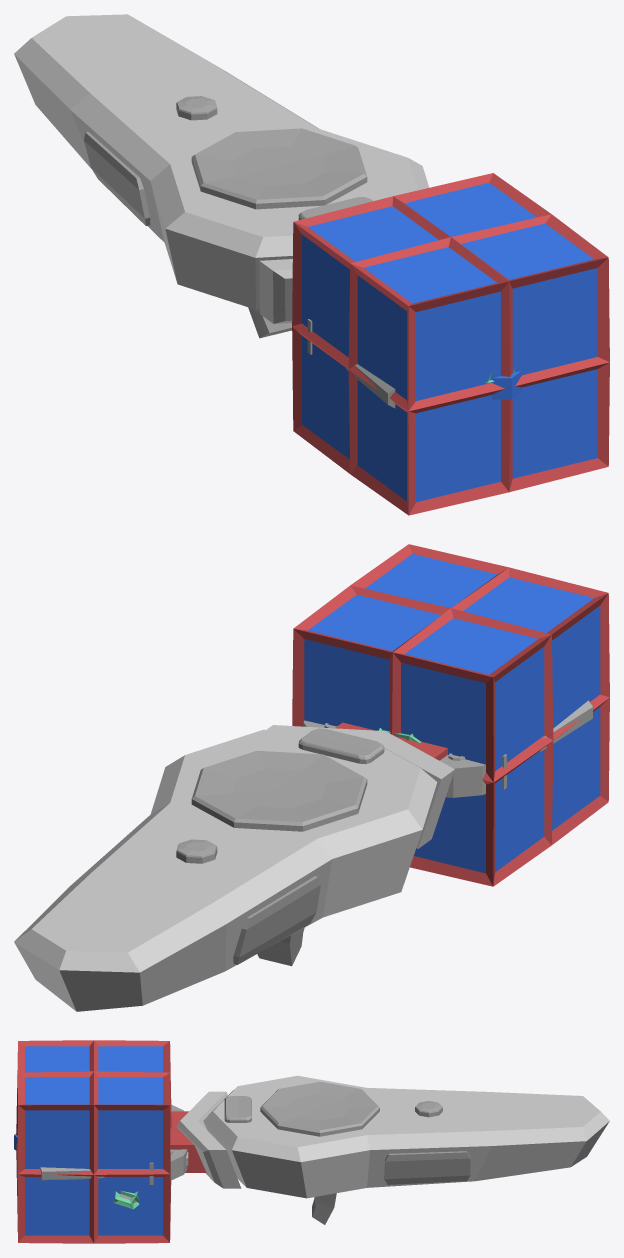
File: Brush_aged.fbx
3 renders of one model, top to bottom at view 1: azimuth 30°, elevation 25°; view 2: azimuth 150°, elevation 25°; view 3: azimuth 270°, elevation 25°, orthographic. The views are drawn at different scales.
Parts seen in each view (by area): view 1: Cube_object, Controller_Object, Negative_cube_object, Big_Button, Controller_gripRight_object, Base_Object, Little_Button; view 2: Controller_Object, Cube_object, Negative_cube_object, Big_Button, Controller_gripRight_object, Base_Object, topButton_Object_Grey, Paintbrush_object, zClick_Object, Little_Button, pliers_open; view 3: Controller_Object, Cube_object, Negative_cube_object, Big_Button, Controller_gropLeft_object, Base_Object, Eraser_object, topButton_Object_Grey, Paintbrush_object, pliers_open, zClick_Object, Little_Button (+1 smaller).
Boxes of the visible parts, x1,y1,x2,y2 form: Cube_object: [302, 182, 597, 502]; Controller_Object: [14, 14, 429, 309]; Negative_cube_object: [292, 173, 609, 515]; Big_Button: [191, 128, 367, 209]; Controller_gripRight_object: [84, 132, 150, 225]; Base_Object: [259, 259, 292, 323]; Little_Button: [176, 96, 217, 120]; Controller_Object: [14, 729, 437, 1011]; Cube_object: [304, 553, 600, 873]; Negative_cube_object: [292, 544, 609, 886]; Big_Button: [191, 750, 367, 831]; Controller_gripRight_object: [233, 876, 320, 964]; Base_Object: [266, 725, 454, 848]; topButton_Object_Grey: [298, 728, 384, 764]; Paintbrush_object: [303, 720, 506, 797]; zClick_Object: [257, 928, 304, 966]; Little_Button: [176, 839, 217, 863]; pliers_open: [539, 700, 592, 751]; Controller_Object: [203, 1075, 609, 1198]; Cube_object: [25, 1046, 162, 1235]; Negative_cube_object: [16, 1040, 171, 1243]; Big_Button: [260, 1081, 379, 1136]; Controller_gropLeft_object: [384, 1151, 470, 1184]; Base_Object: [176, 1091, 241, 1188]; Eraser_object: [170, 1111, 206, 1172]; topButton_Object_Grey: [224, 1096, 251, 1122]; Paintbrush_object: [149, 1104, 187, 1184]; pliers_open: [40, 1151, 188, 1180]; zClick_Object: [312, 1193, 336, 1224]; Little_Button: [415, 1101, 442, 1117].
Size of the model in its own units: 7.18 by 6.02 by 21.89.
